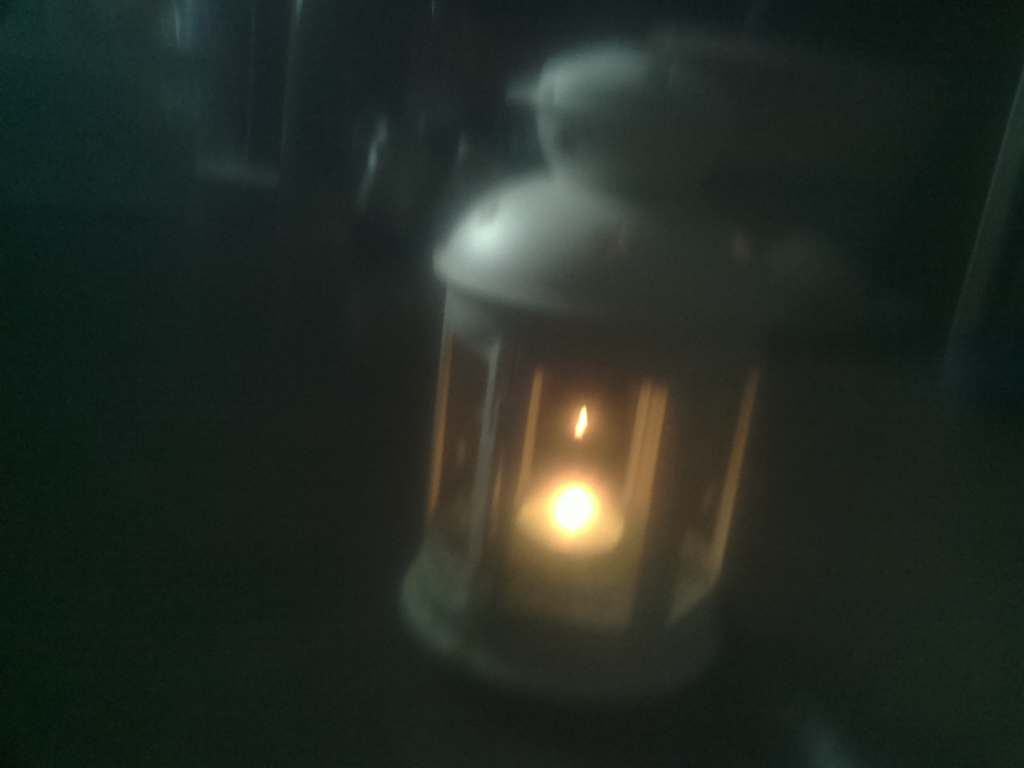fire: (515, 456, 636, 572)
